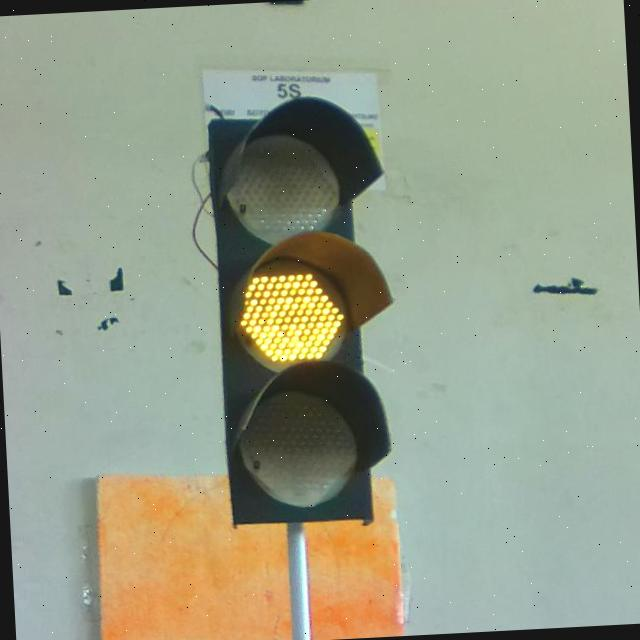yellow_light: (208, 96, 405, 532)
